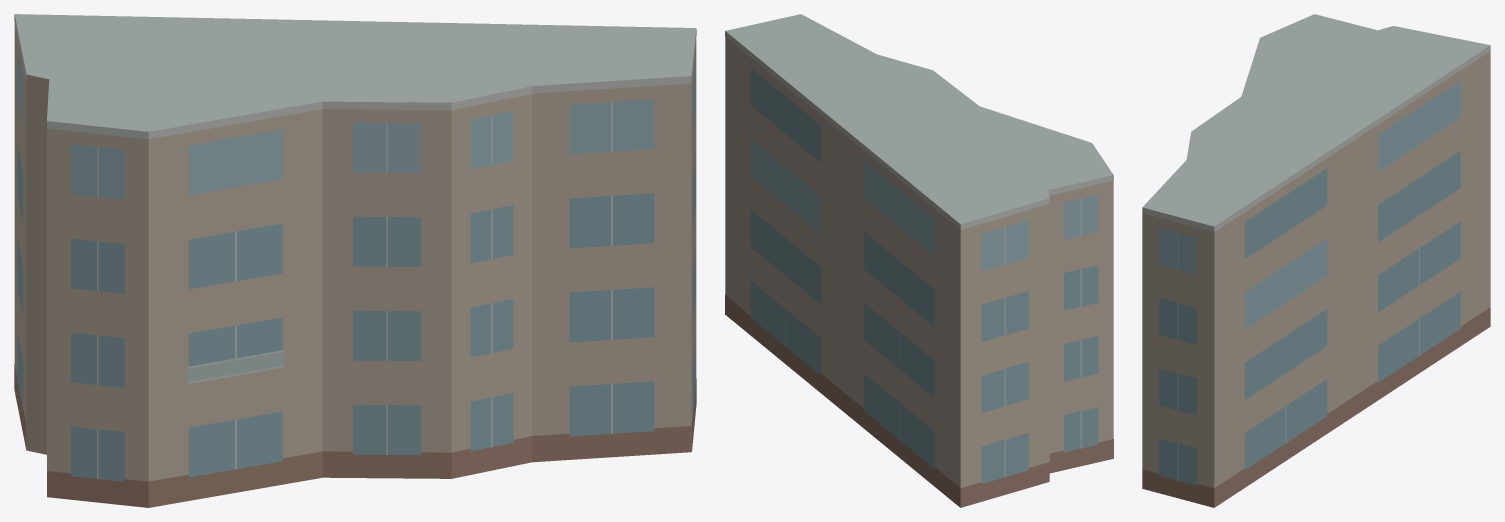
The model's file is survey-upis-32642263.glb.
The picture shows the model from 3 angles, left to right: view 1: azimuth 30°, elevation 25°; view 2: azimuth 150°, elevation 25°; view 3: azimuth 270°, elevation 25°; orthographic projection. The views are drawn at different scales.
Visible parts, largest first — view 1: survey-upis-32642263.tmp; view 2: survey-upis-32642263.tmp; view 3: survey-upis-32642263.tmp.
Part boxes in pixels (left/top/right/bottom): survey-upis-32642263.tmp: left=14, top=14, right=696, bottom=507; survey-upis-32642263.tmp: left=725, top=14, right=1113, bottom=507; survey-upis-32642263.tmp: left=1142, top=14, right=1490, bottom=507.
Bounding box in the file's own units: 19.78 × 12.2 × 13.7.
